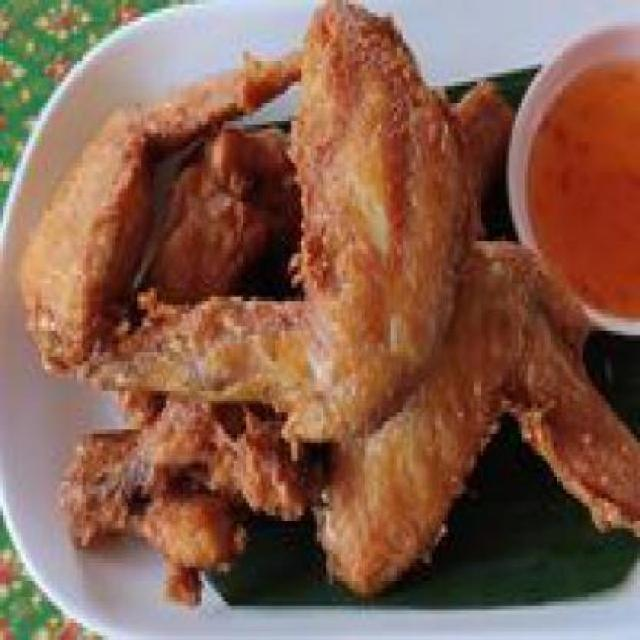Wet Waste: (311, 69, 637, 597), (89, 9, 468, 429), (80, 120, 311, 580), (26, 34, 311, 374)
